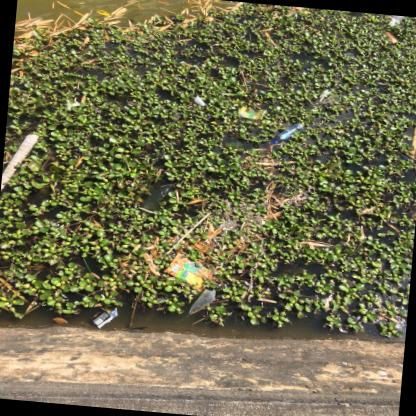Plastic: (164, 253, 213, 292), (272, 123, 304, 145), (189, 289, 216, 315), (90, 307, 118, 329), (238, 107, 268, 120), (154, 185, 175, 202), (317, 90, 342, 104), (271, 141, 277, 145)
Waste: (194, 96, 205, 107), (389, 18, 400, 27), (392, 16, 405, 22), (305, 68, 311, 71)
